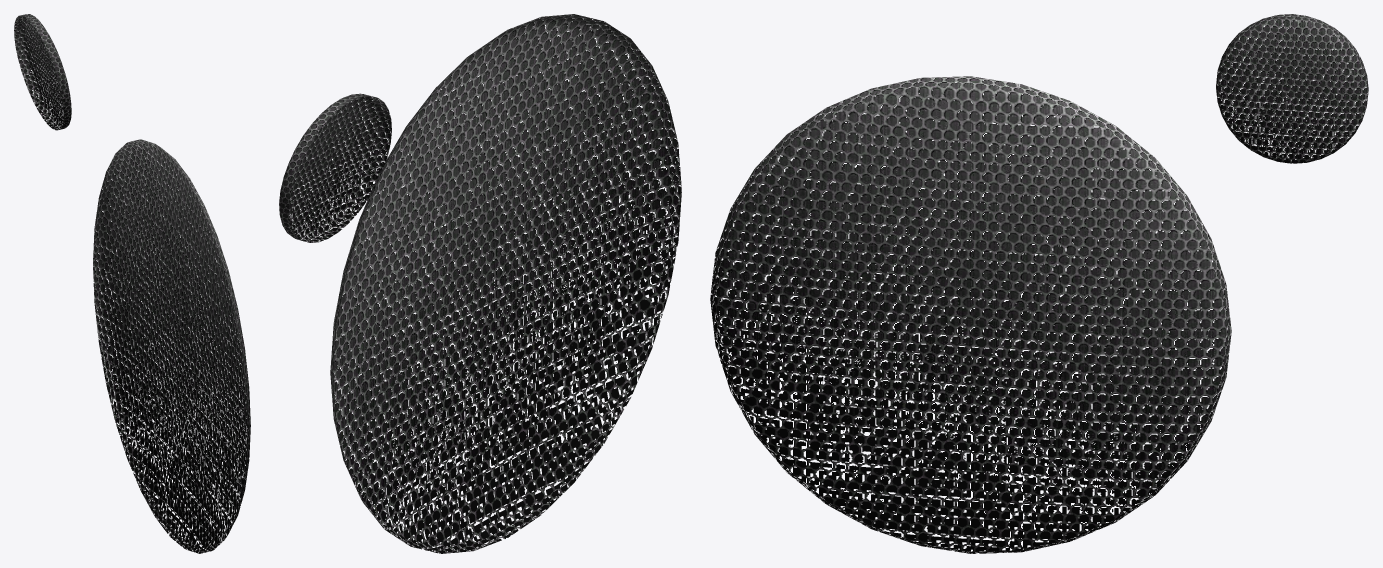
Rendered from Murcielago-RightDoorSpeakers.fbx.
3 renders of one model, left to right at view 1: azimuth 30°, elevation 25°; view 2: azimuth 150°, elevation 25°; view 3: azimuth 270°, elevation 25°, orthographic. The views are drawn at different scales.
Parts seen in each view (by area): view 1: polymsh147, polymsh148; view 2: polymsh147, polymsh148; view 3: polymsh147, polymsh148.
Boxes of the visible parts, x1=… form: polymsh147: x1=93, y1=139, x2=250, y2=553; polymsh148: x1=14, y1=14, x2=71, y2=130; polymsh147: x1=330, y1=14, x2=681, y2=553; polymsh148: x1=279, y1=93, x2=391, y2=242; polymsh147: x1=710, y1=76, x2=1231, y2=553; polymsh148: x1=1216, y1=14, x2=1368, y2=163.
Bounding box in the file's own units: 0.0545 × 0.3703 × 0.4149.
